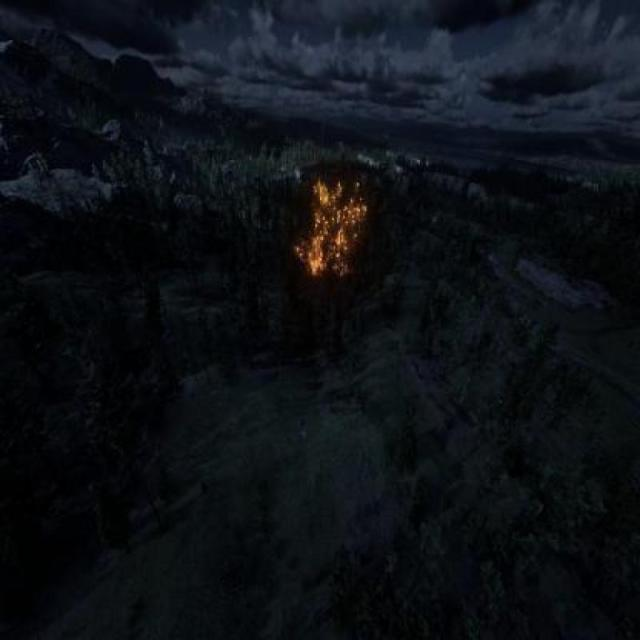Fire: (292, 164, 371, 284)
